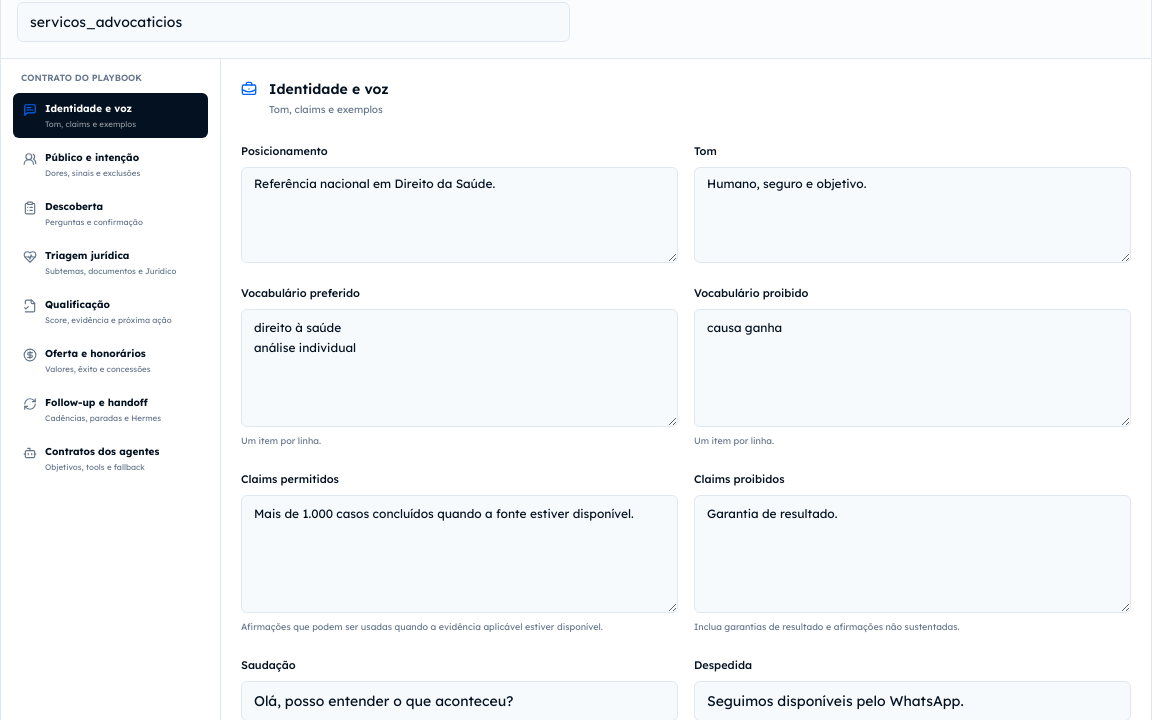
Test: PlaybookEditorPage › hides the internal AI budget while preserving office commercial values
Later steps or results of the test are not shown.
(page scrolled)
Click the button "Oferta e honorários Valores, êxito e concessões": coordinates (110, 360) x1=13 y1=338 x2=208 y2=382
(page scrolled)
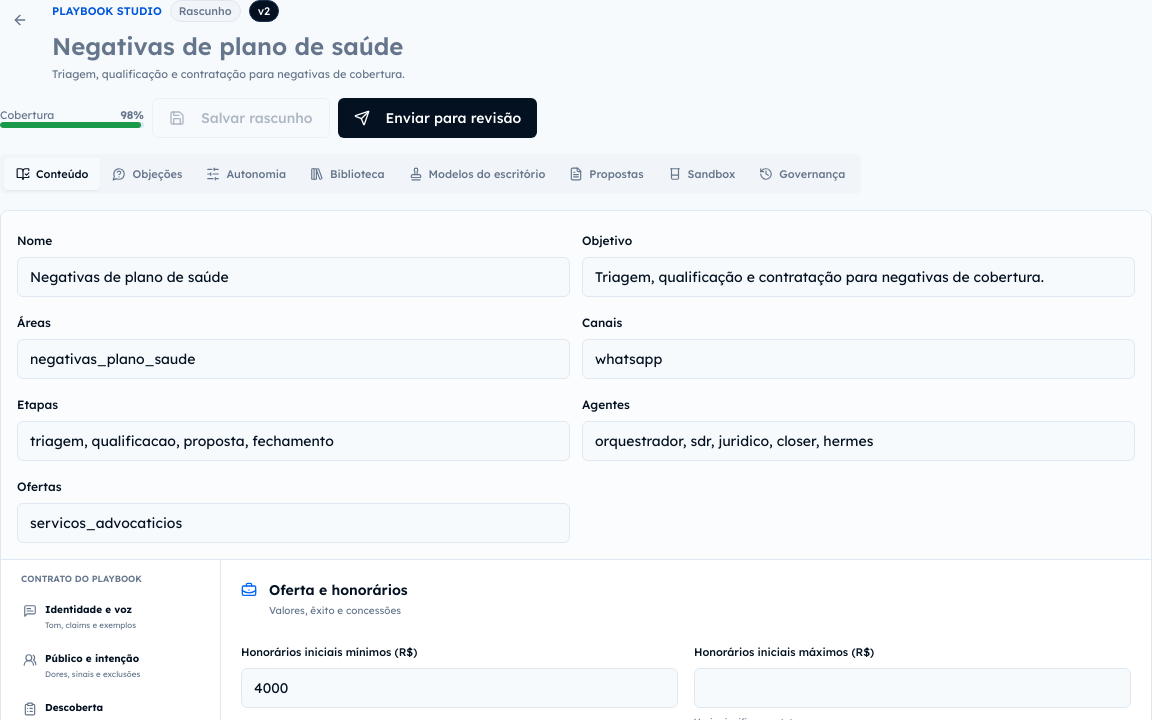
Now the text "Honorários iniciais mínimos (R$)" is shown, box x1=241 y1=645 x2=417 y2=659
Now the number field showing "4000" below "Honorários iniciais mínimos (R$)" is shown, box x1=241 y1=668 x2=678 y2=708
